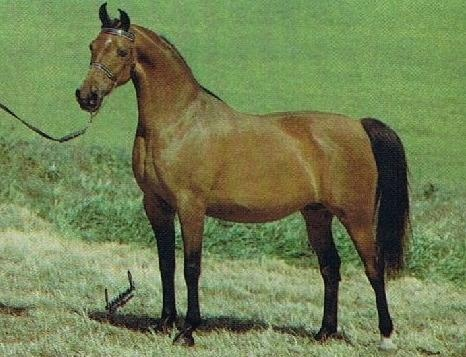horse: (77, 2, 411, 348)
